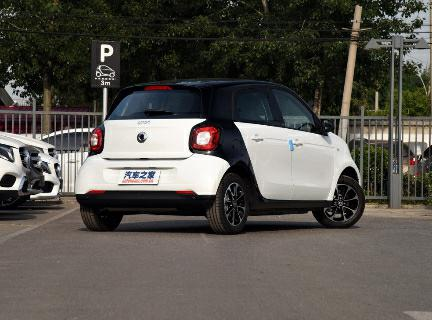smart-forfour: (66, 79, 376, 237)
